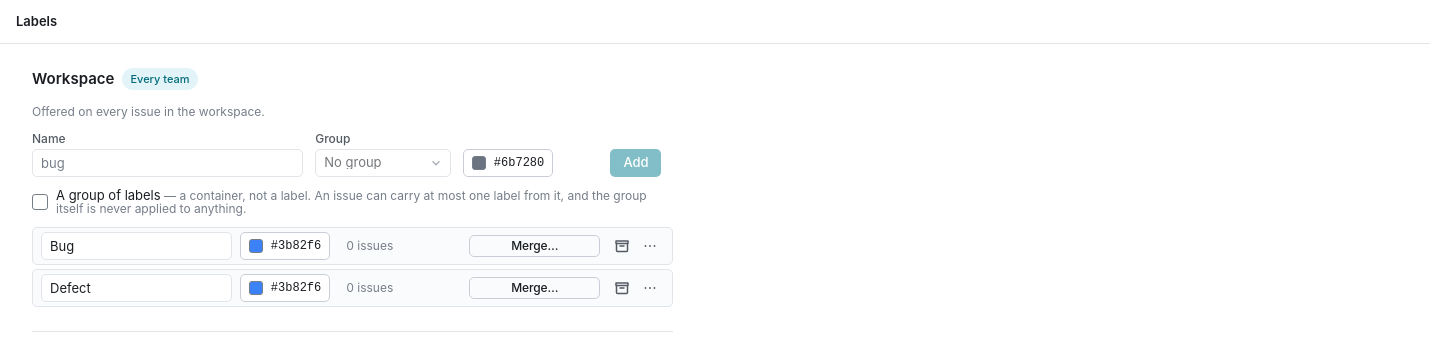
it: the label row menu › opens on a right-click
Right-click the button named "Options for Bug" at x=650, y=246, box [636,232,664,260]
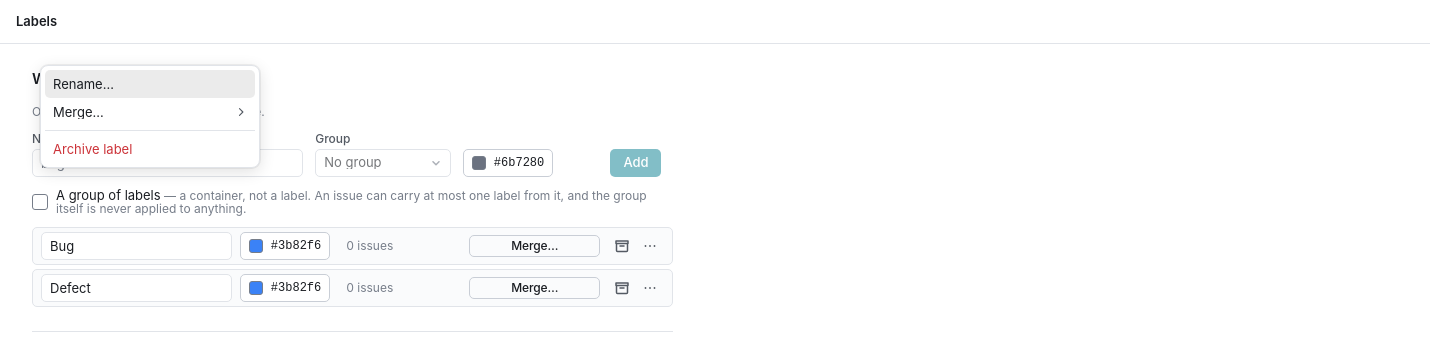
Check: the menu is shown, box [45,70,255,163]
